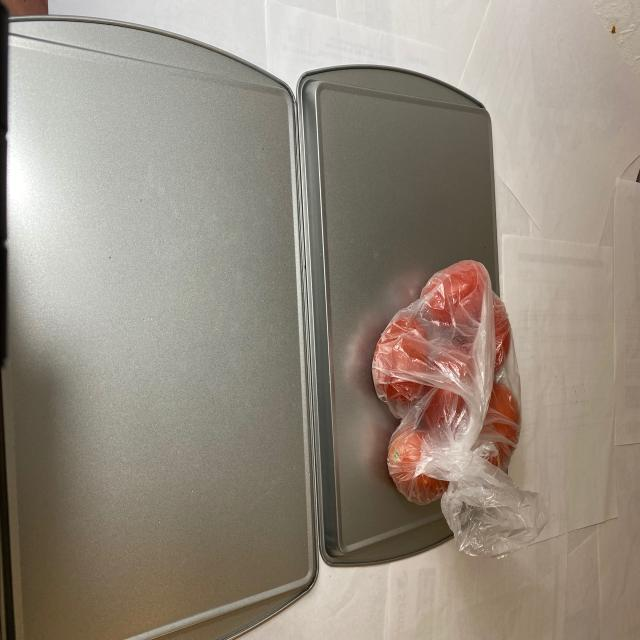tomato: (364, 254, 518, 510)
